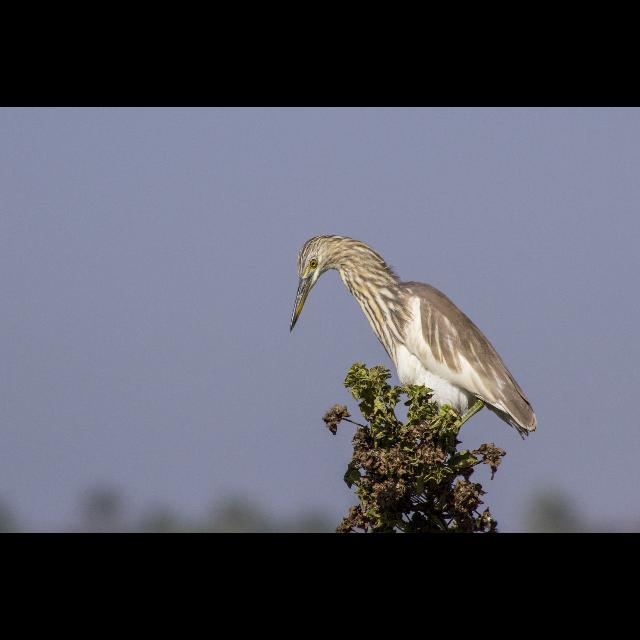heron: (288, 236, 540, 434)
